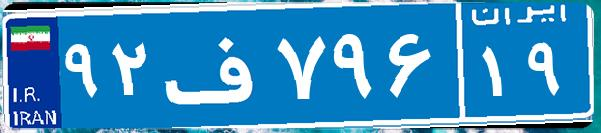1: (475, 38, 525, 113)
2: (110, 28, 158, 105)
6: (385, 28, 445, 110)
7: (273, 28, 330, 110)
9: (330, 28, 385, 110), (57, 26, 110, 107), (525, 38, 570, 115)
ف: (158, 15, 273, 115)
